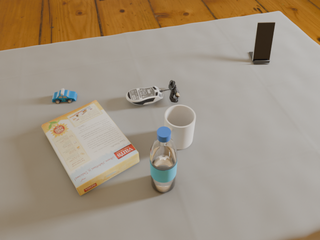bottle: (150, 126, 177, 193)
box: (41, 100, 139, 195)
cup: (165, 105, 196, 149)
mouse: (126, 86, 165, 105)
phone: (252, 22, 275, 61)
toy_car: (52, 88, 77, 103)
